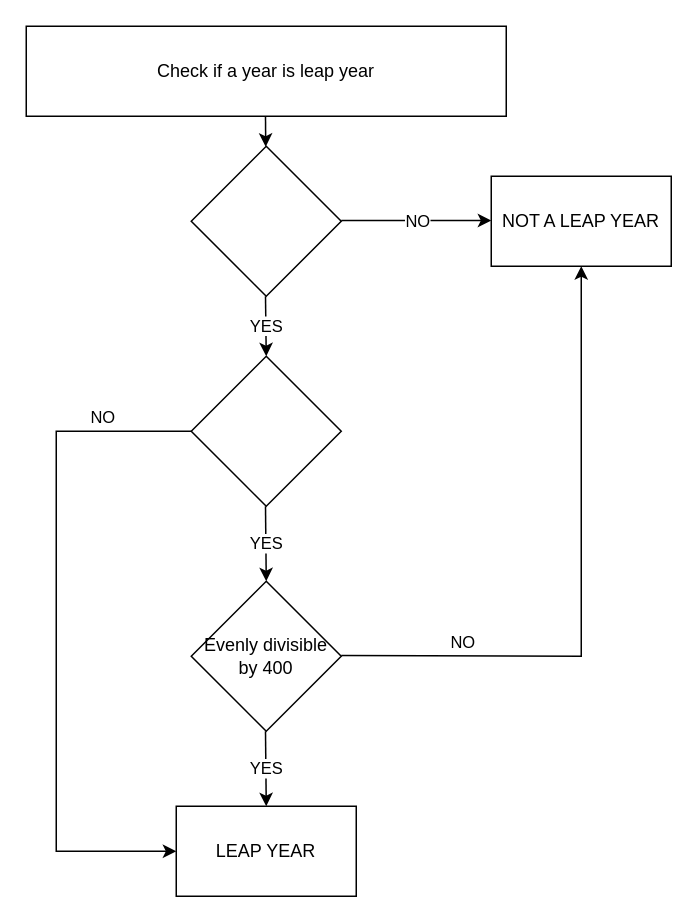
Image size: 698x923. Some labels were removed from this diagram. Here are the shapes that lost their labels. From the top down, the centre of each, then its label:
At point (265, 220): "Evenly divisible by 4".
At point (265, 430): "Evenly divisible by 100".
